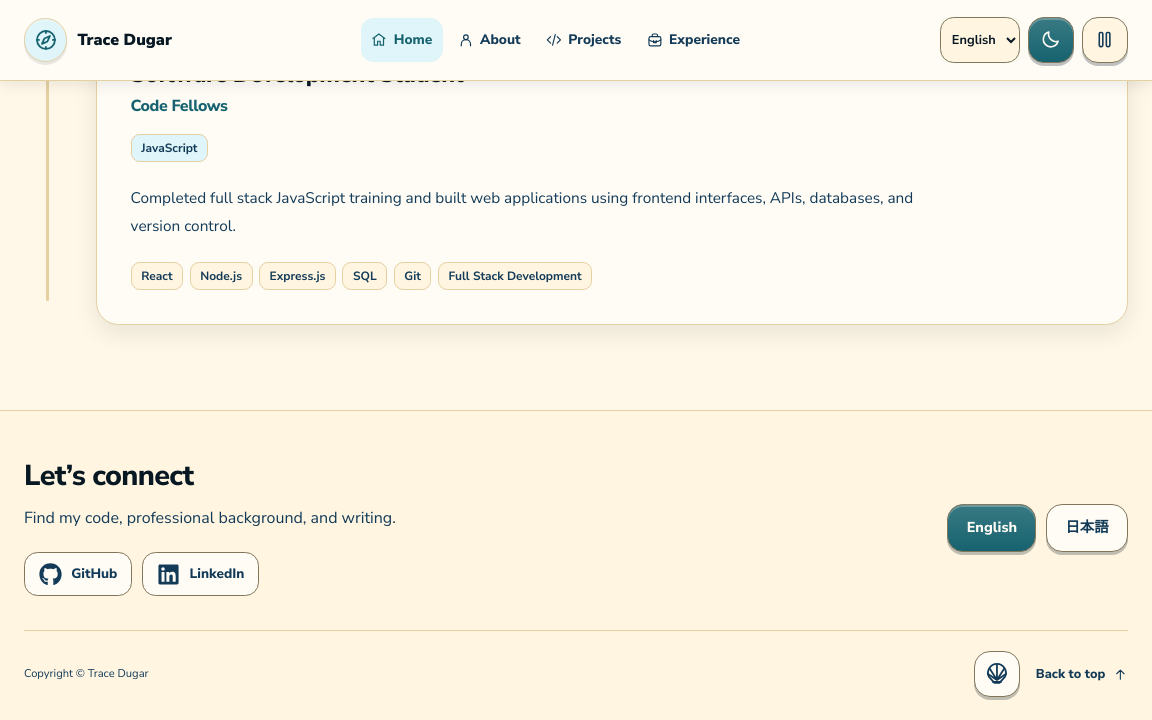
Test: Japanese changes the document language, navigation, timeline dates and descriptions
(page scrolled)
Click the button "日本語".
click(1087, 528)  # box [1046, 504, 1128, 552]
(page scrolled)
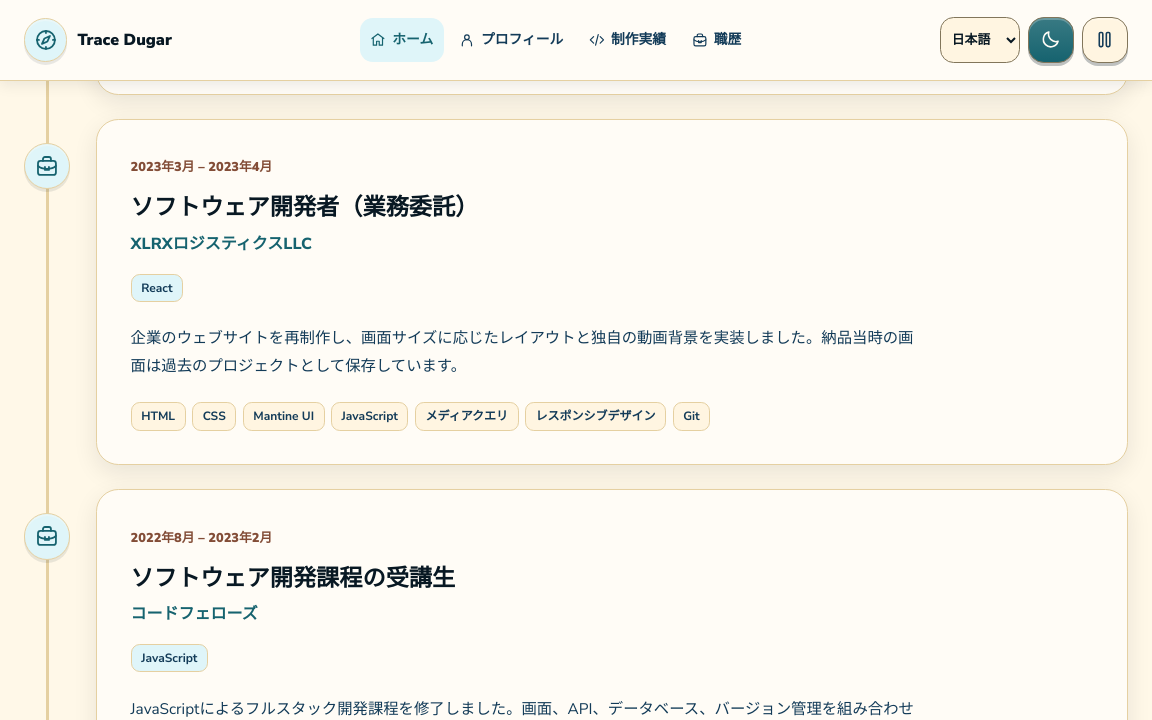
Expected: the link "ホーム" is shown, [360, 18, 444, 62]
Expected: the list item "メディアクエリ" is shown, [415, 402, 519, 430]
